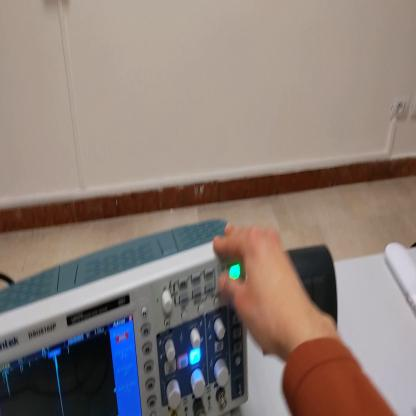hand: (213, 223, 310, 360)
oscilloscope: (2, 225, 249, 416)
